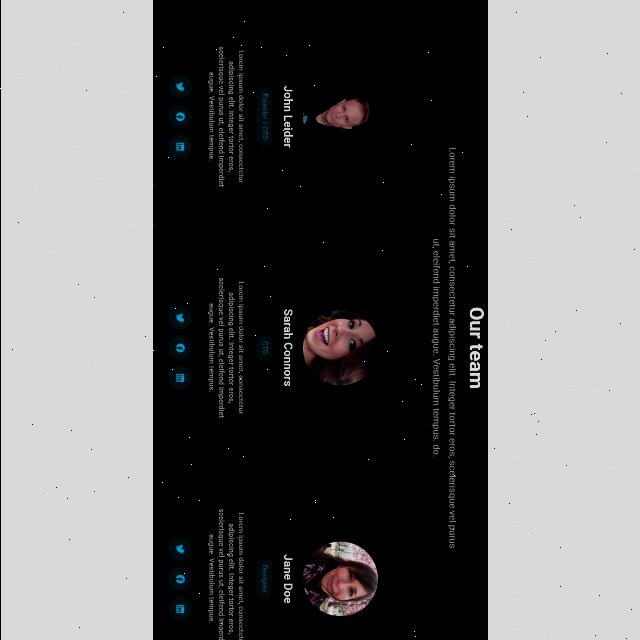QLabel: (446, 146, 458, 548), (431, 237, 441, 458), (468, 304, 484, 390), (217, 277, 225, 419), (237, 278, 245, 416), (237, 48, 245, 184), (237, 508, 245, 640), (217, 508, 225, 640), (227, 61, 235, 173), (218, 46, 224, 186), (228, 522, 235, 634), (283, 307, 293, 385), (228, 292, 235, 403), (282, 84, 294, 148), (207, 302, 215, 394), (207, 71, 215, 161), (208, 533, 215, 625), (283, 552, 293, 604), (262, 94, 268, 140), (260, 564, 268, 594), (262, 340, 268, 354)
VAvatar: (168, 596, 192, 620), (168, 566, 192, 590), (168, 536, 192, 560), (168, 336, 192, 359), (168, 306, 190, 330), (168, 366, 192, 388), (169, 134, 191, 158), (169, 105, 191, 127)
VCard: (152, 6, 408, 228), (152, 237, 408, 458), (153, 468, 409, 640)
VChip: (255, 87, 272, 147), (256, 558, 274, 600), (257, 334, 273, 362)
VImg: (302, 306, 378, 388), (302, 540, 380, 618), (302, 77, 378, 155), (167, 74, 191, 100)
